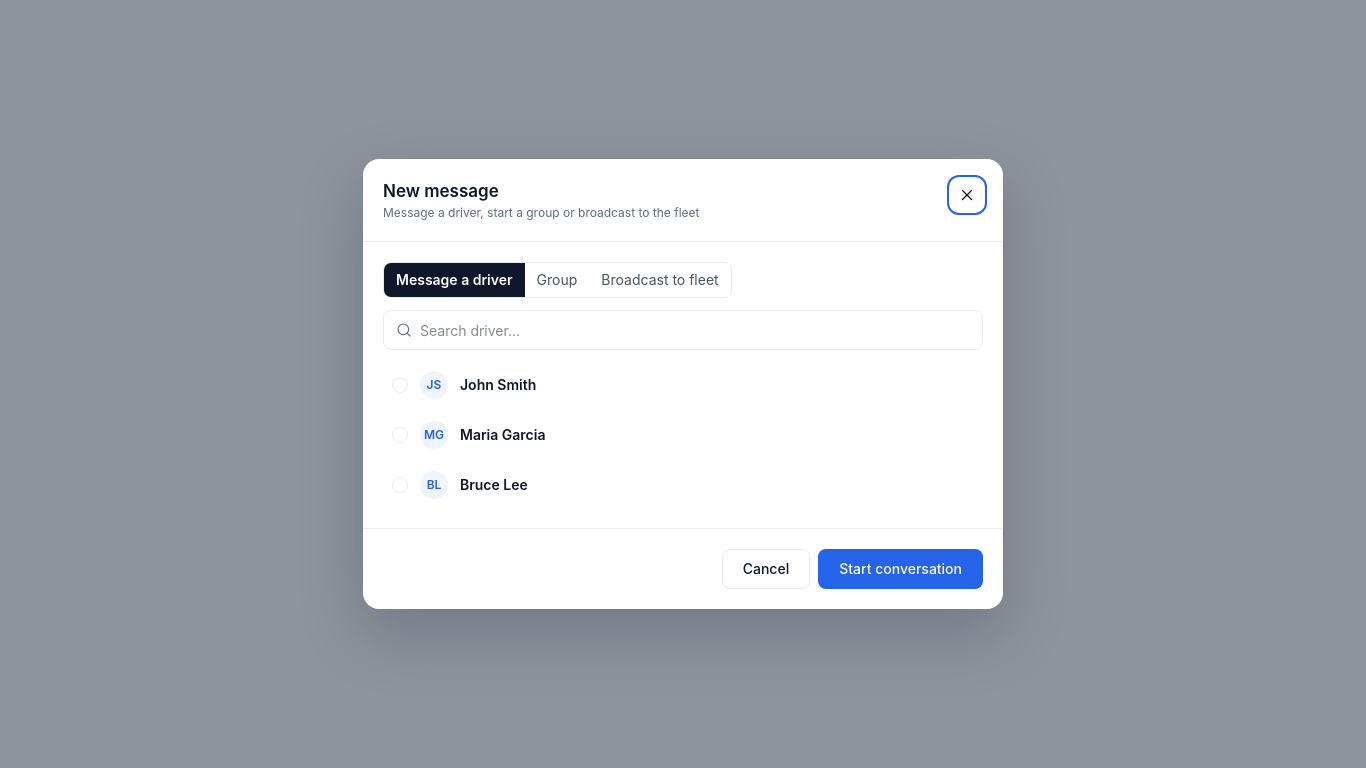
Scenario: NewConversationModal — Group tab › renders the group name input, the selection hint and the driver list
This screenshot has width=1366, height=768.
Expected: the field labelled "Group name" is not shown
Click the button "Group".
click(557, 280)  # box [525,263,589,297]
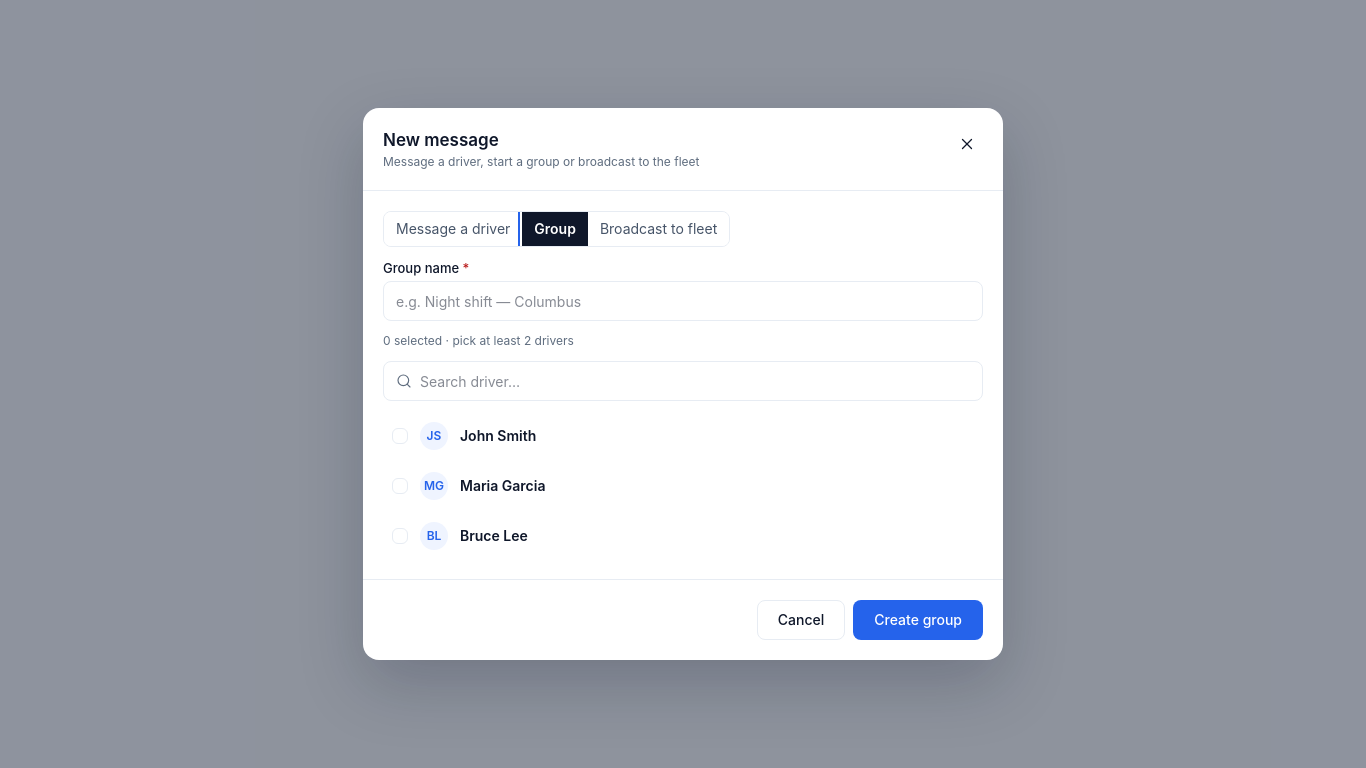
Expected: the text "John Smith" is shown, [460,427,536,444]
Expected: the field labelled "Group name *" is shown, [383,281,983,321]
Expected: the text "0 selected · pick at least 2 drivers" is shown, [383,333,574,348]
